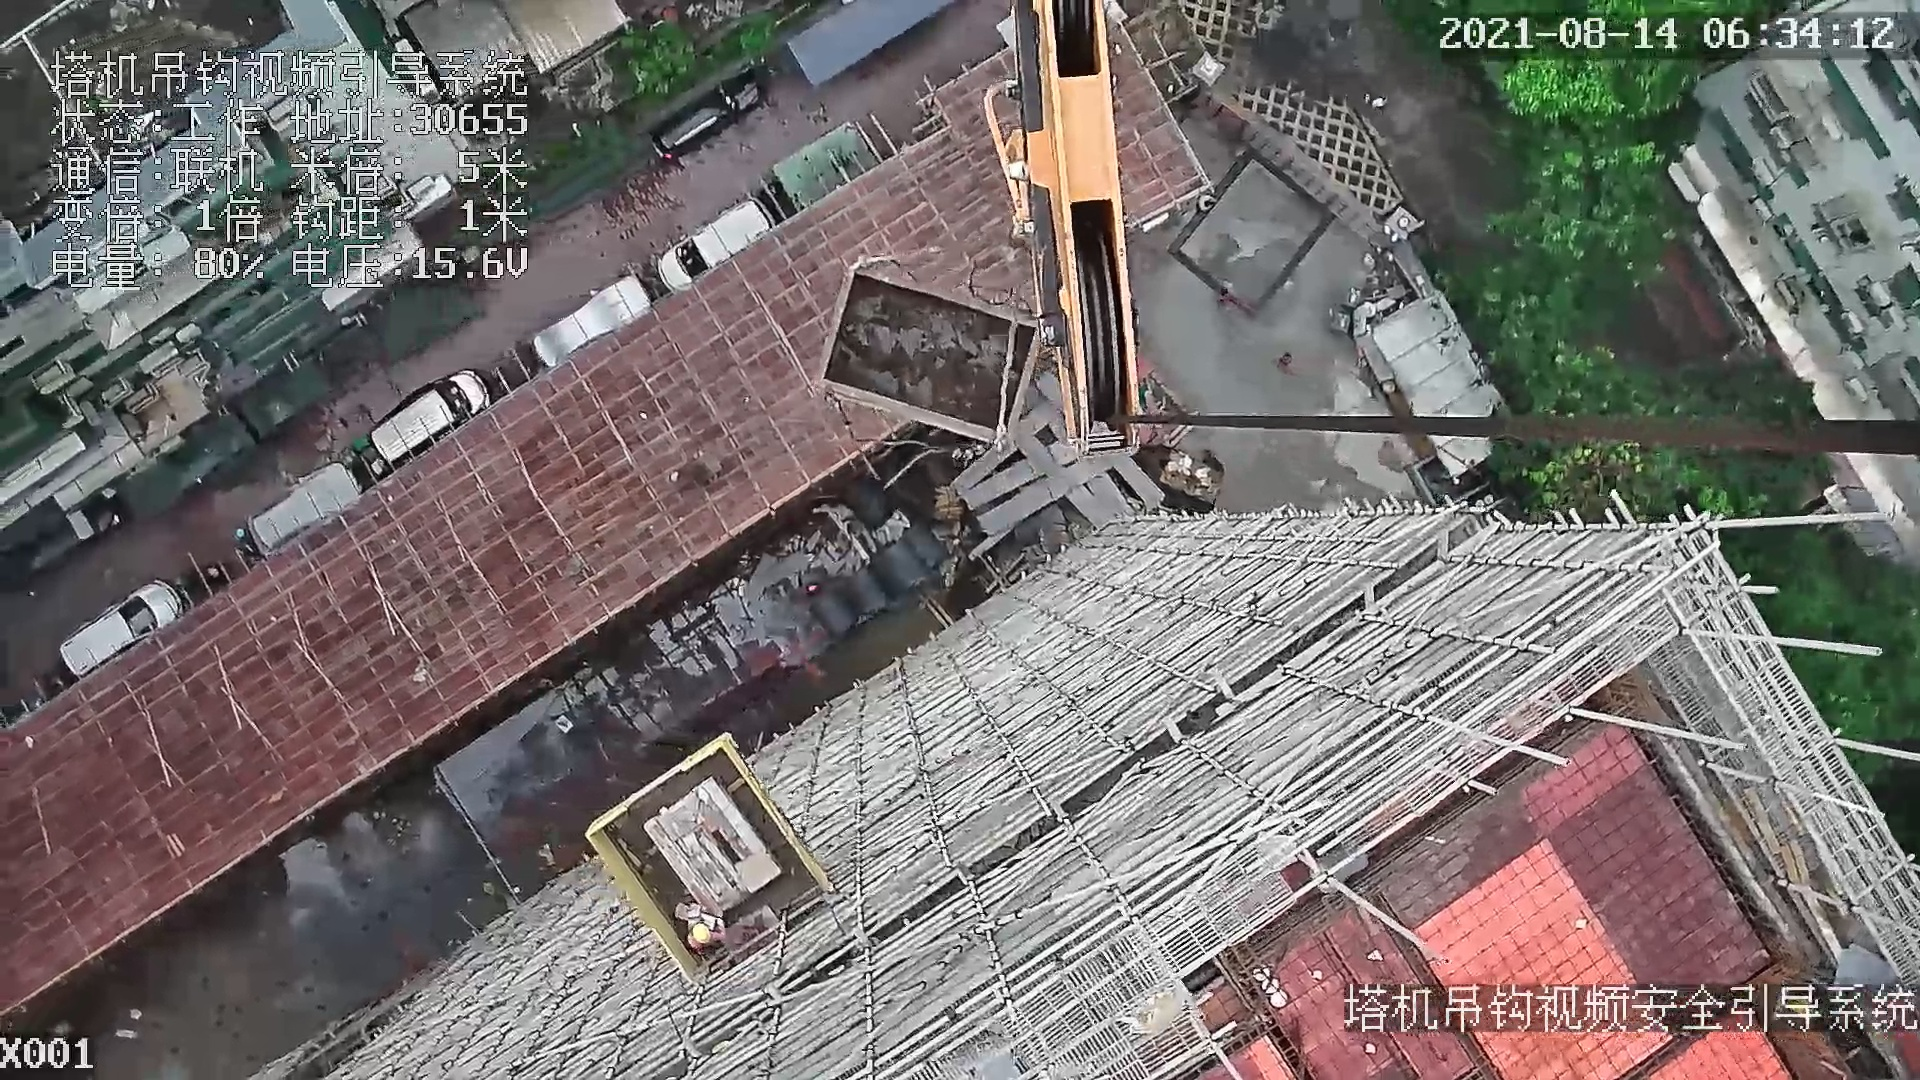helmet: (687, 924, 714, 945)
hook: (976, 1, 1144, 454)
hopper: (801, 254, 1053, 487)
person: (670, 917, 732, 951)
